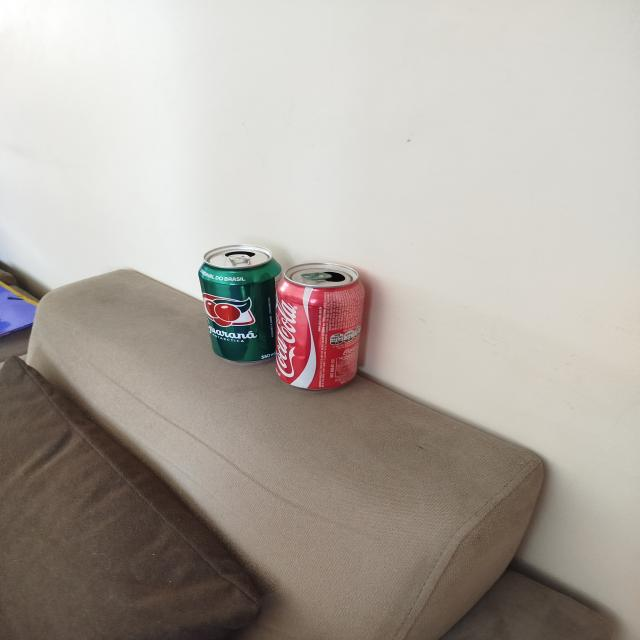Coca Cola: (276, 262, 368, 390)
Guarana: (198, 244, 284, 364)
